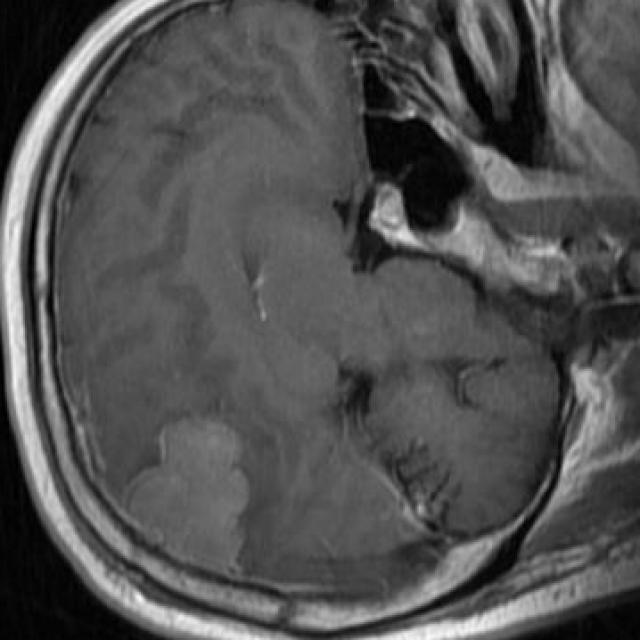meningioma: (123, 419, 251, 576)
